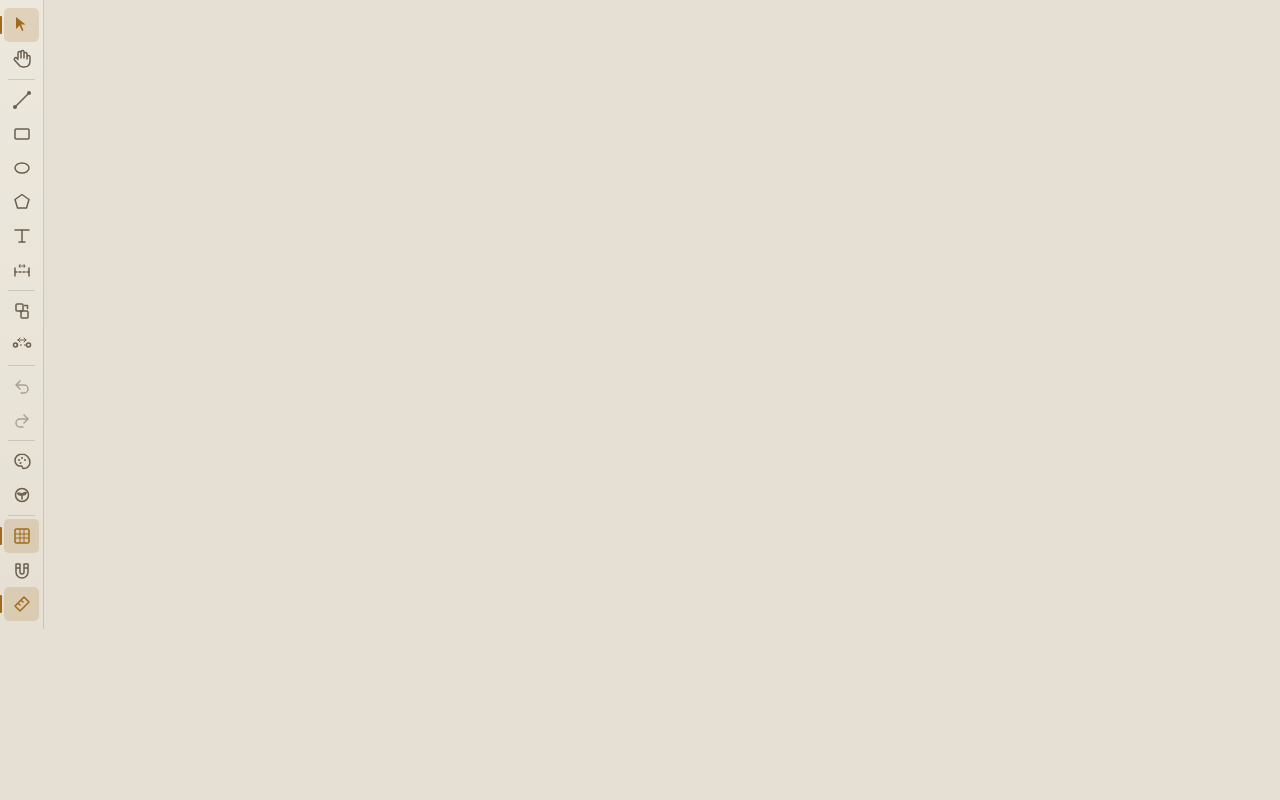
CanvasToolbar › shows a separate plant symbol button after plant color and opens the symbol popover
Click the button named "Plant symbol" at (22, 495), box [4,478,39,512]
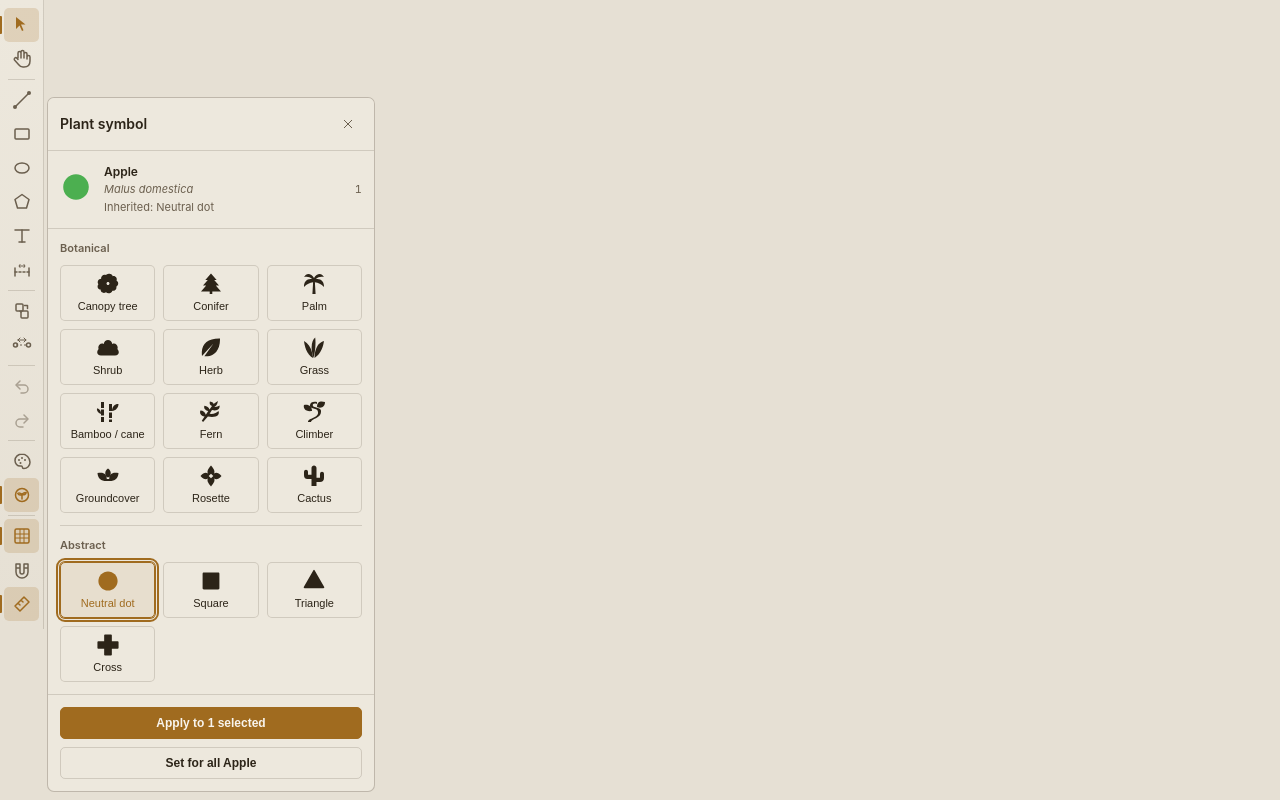
Expected: the dialog named "Plant symbol" is shown, [47,97,375,792]
